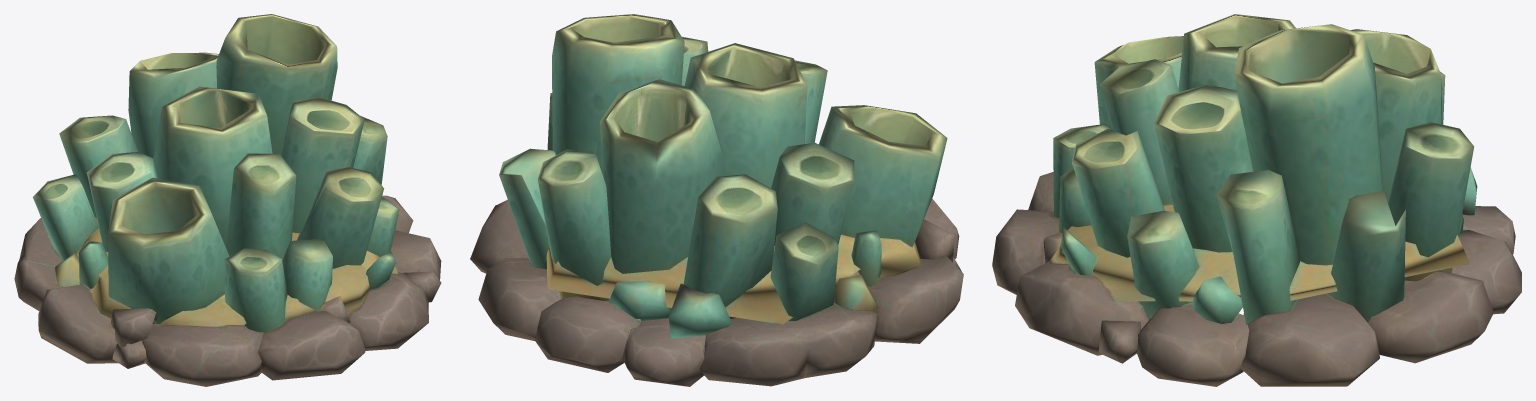
File: Seafoam_Pipe_Coral.glb
The picture shows the model from 3 angles, left to right: view 1: azimuth 30°, elevation 25°; view 2: azimuth 150°, elevation 25°; view 3: azimuth 270°, elevation 25°; orthographic projection. The views are drawn at different scales.
Visible parts, largest first — view 1: mesh_node; view 2: mesh_node; view 3: mesh_node.
Part boxes in pixels (box(x1,y1,x2,y2)): mesh_node: box(14, 14, 441, 386); mesh_node: box(470, 14, 963, 386); mesh_node: box(992, 14, 1521, 386).
Bounding box in the file's own units: 1 × 0.5879 × 1.
Materials: 1 (1 with a texture image).
